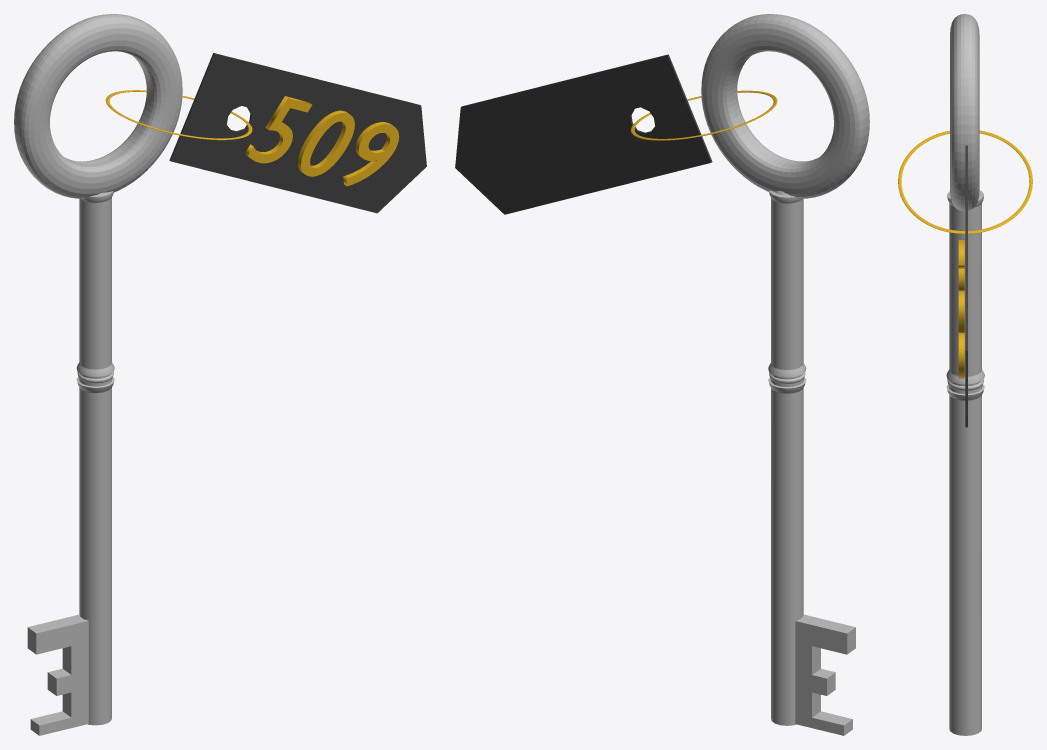
Rendered from key509.fbx.
The picture shows the model from 3 angles, left to right: view 1: azimuth 30°, elevation 25°; view 2: azimuth 150°, elevation 25°; view 3: azimuth 270°, elevation 25°; orthographic projection.
Visible parts, largest first — view 1: key509; view 2: key509; view 3: key509.
Part boxes in pixels (x1,y1,x2,y2): key509: [14, 14, 426, 735]; key509: [455, 14, 869, 735]; key509: [898, 14, 1032, 735].
Bounding box in the file's own units: 8.68 × 14.18 × 2.45.
